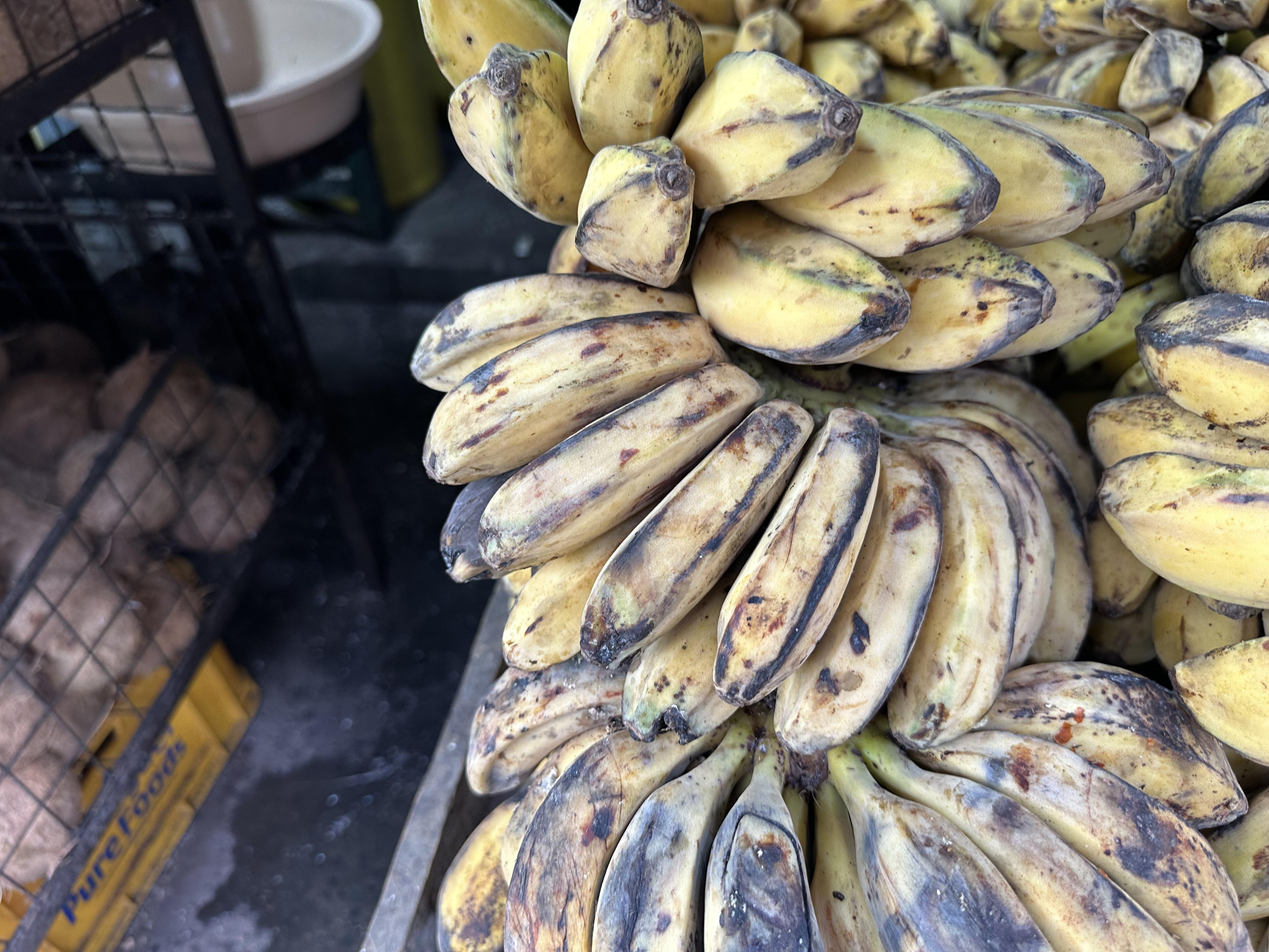ripe: (413, 274, 1096, 753), (420, 0, 1170, 371), (437, 659, 1250, 952), (1091, 293, 1269, 609), (981, 0, 1269, 160), (674, 0, 1005, 102), (1086, 513, 1261, 670)
